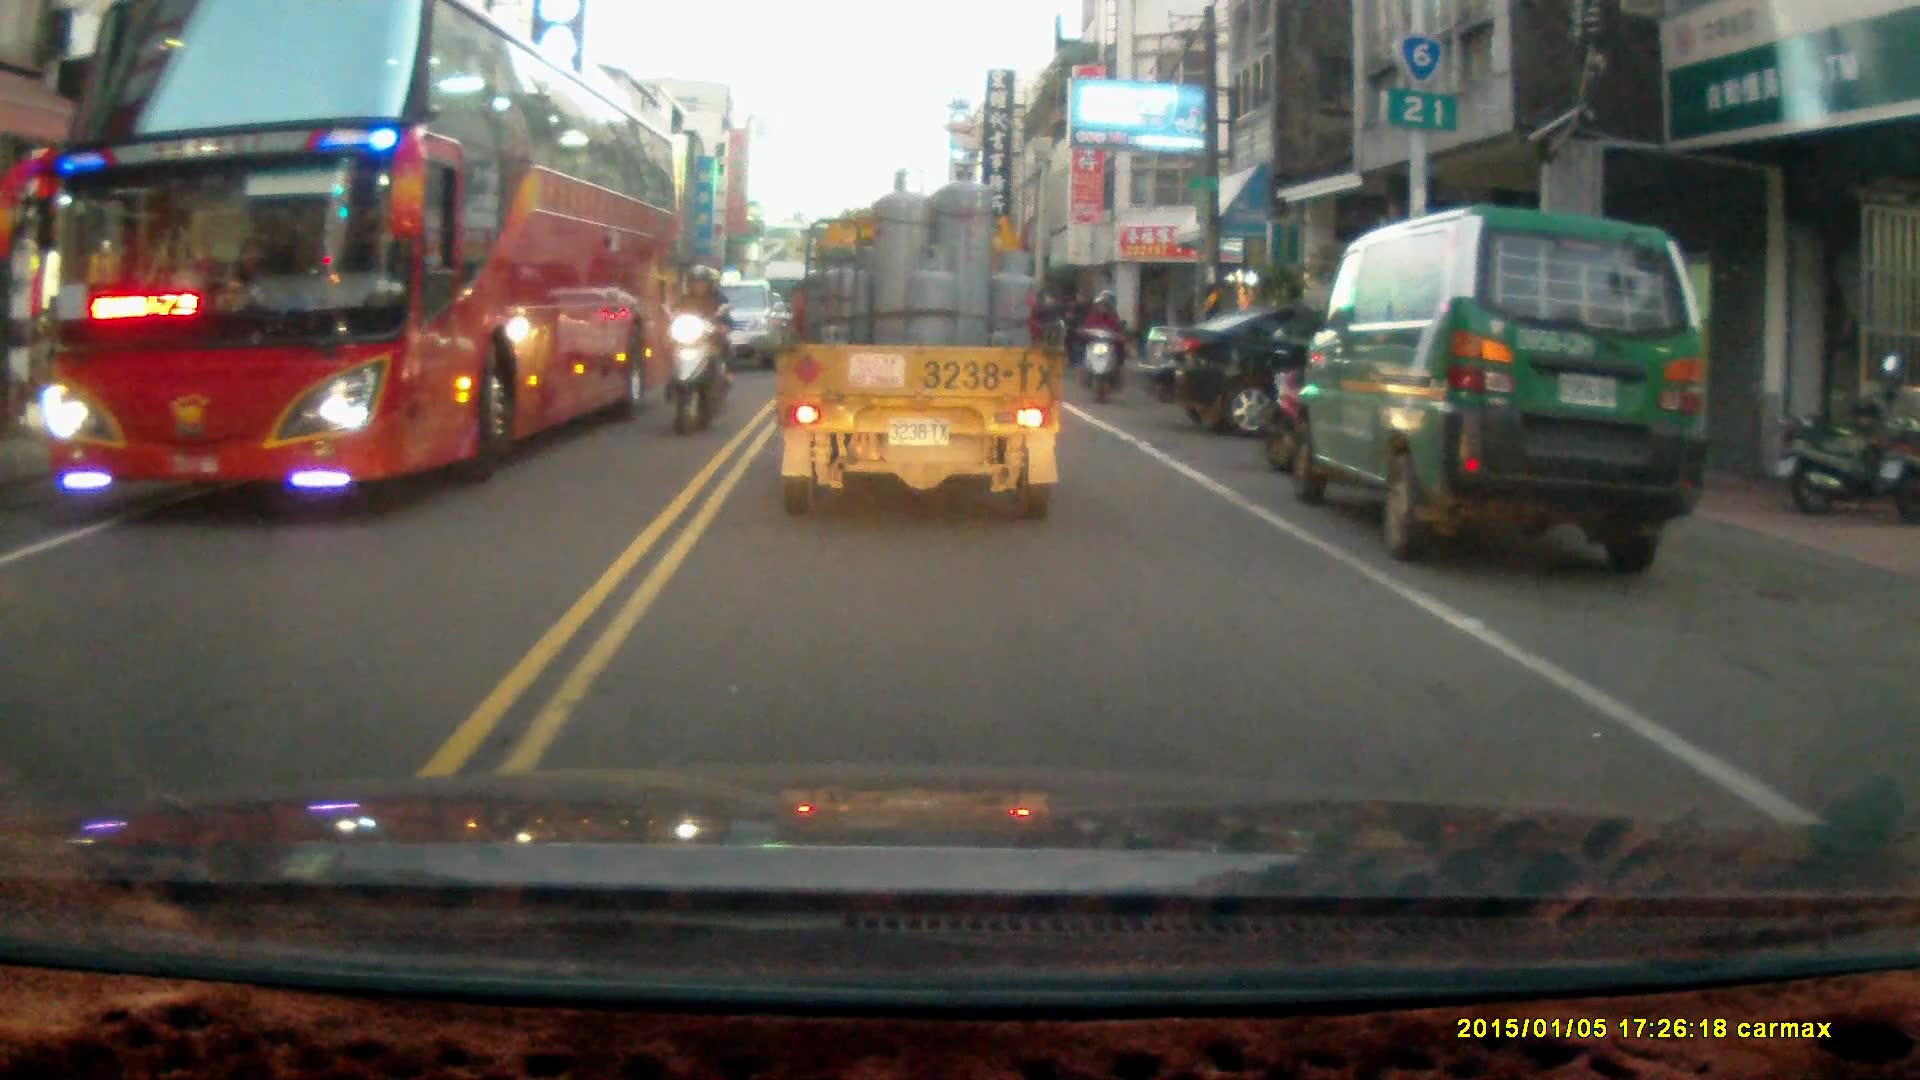rider: (655, 263, 732, 437), (1073, 288, 1127, 403)
vehicle: (29, 17, 681, 510), (1293, 199, 1710, 572), (776, 160, 1064, 524), (1145, 301, 1513, 439), (677, 277, 795, 377)
